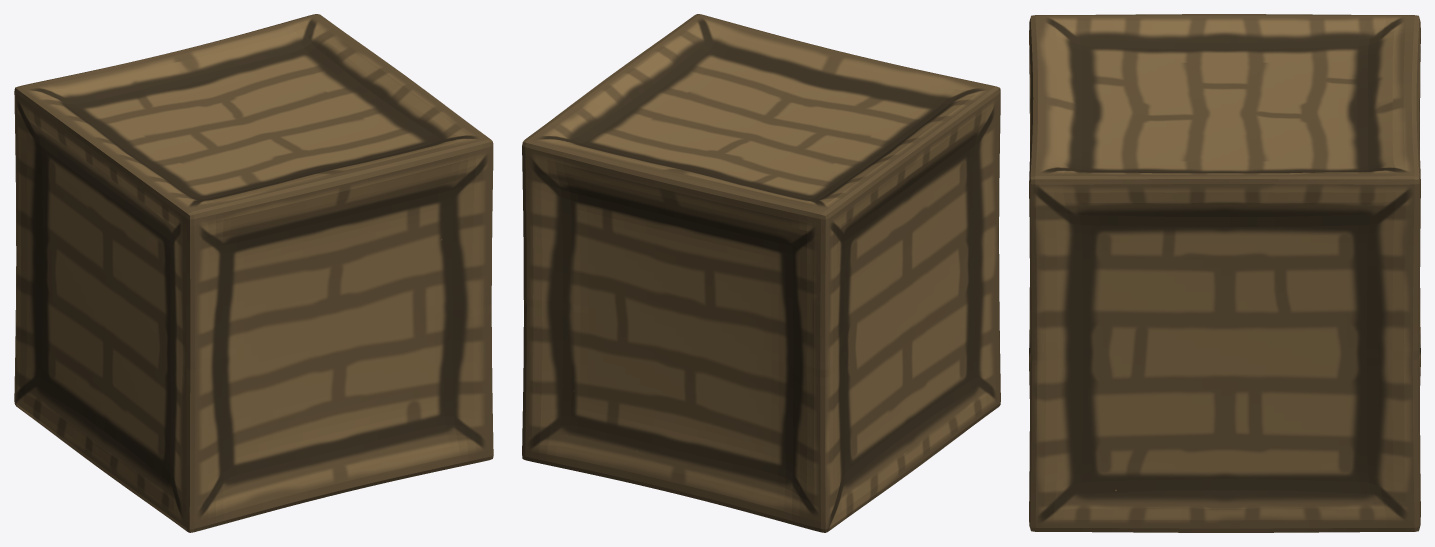
3 renders of one model, left to right at view 1: azimuth 30°, elevation 25°; view 2: azimuth 150°, elevation 25°; view 3: azimuth 270°, elevation 25°, orthographic. The views are drawn at different scales.
Parts seen in each view (by area): view 1: Cube; view 2: Cube; view 3: Cube.
Part boxes in pixels (x1,y1,x2,y2): Cube: (14,14,493,532); Cube: (522,14,1000,532); Cube: (1029,14,1420,532).
Size of the model in its own units: 452 by 452 by 452.
1 material, 1 textured.
